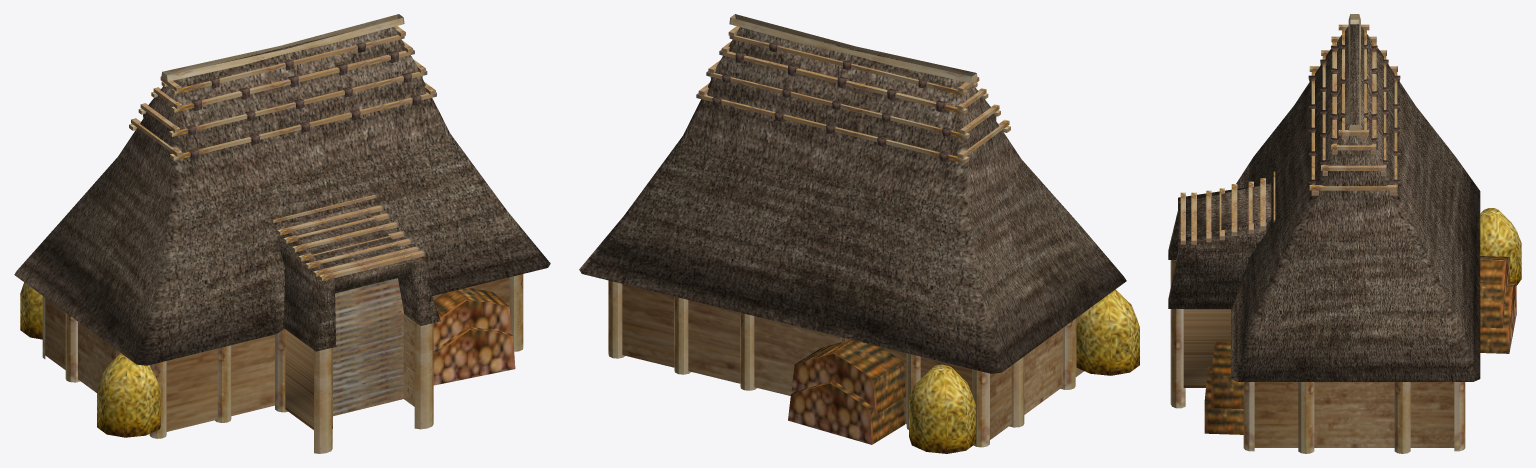
The model's file is yayoi_house_3.dae.
The picture shows the model from 3 angles, left to right: view 1: azimuth 30°, elevation 25°; view 2: azimuth 150°, elevation 25°; view 3: azimuth 270°, elevation 25°; orthographic projection. The views are drawn at different scales.
Visible parts, largest first — view 1: house_3; view 2: house_3; view 3: house_3.
Part boxes in pixels (bbox=[...]): house_3: bbox=[14, 14, 550, 453]; house_3: bbox=[579, 14, 1139, 453]; house_3: bbox=[1168, 14, 1521, 453].
Size of the model in its own units: 15.41 by 11.29 by 11.
